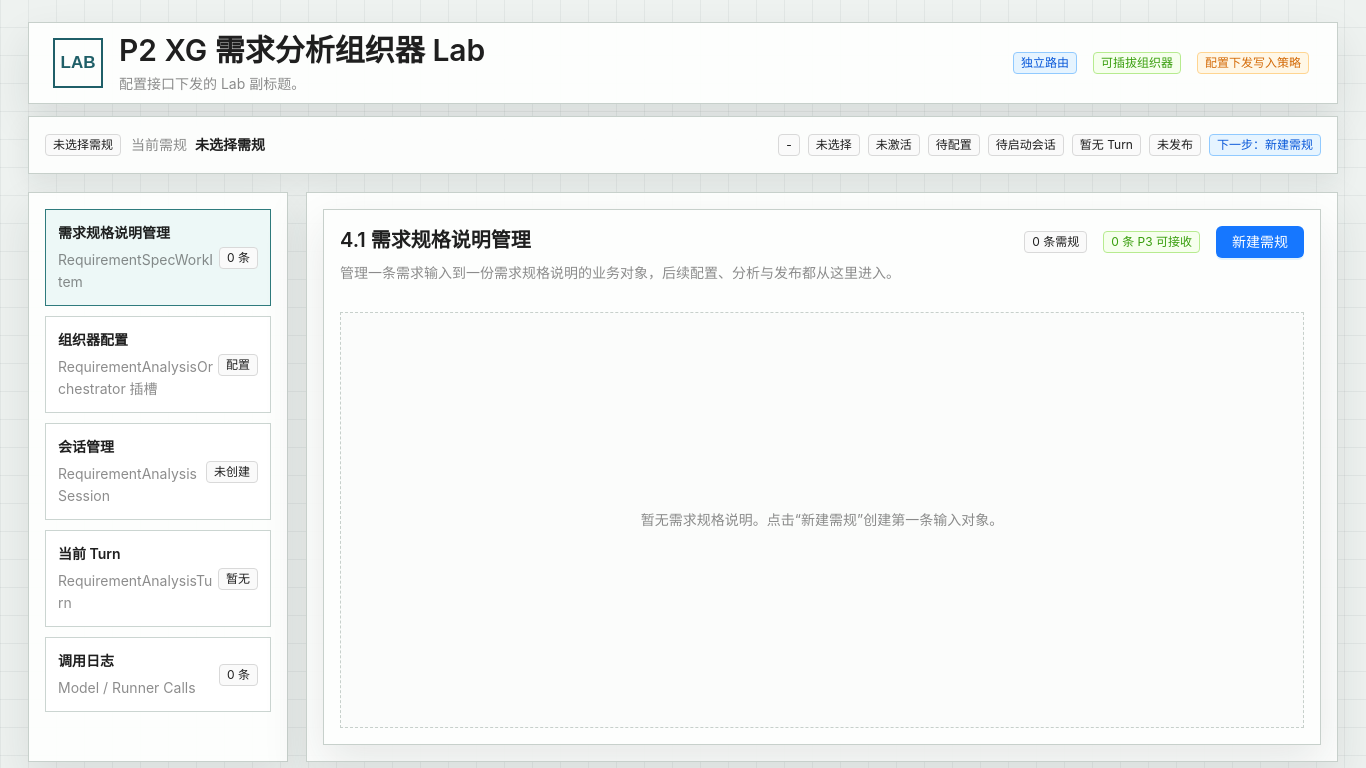
Scenario: guards Lab workflow tabs when no requirement spec is active
expect the heading "P2 XG 需求分析组织器 Lab" is shown: met, box [119, 31, 485, 69]
expect the 1st text "未选择需规" is shown: met, box [45, 134, 121, 156]
Click the tab "组织器配置 RequirementAnalysisOrchestrator 插槽 配置" at (158, 364), box [45, 316, 271, 413]
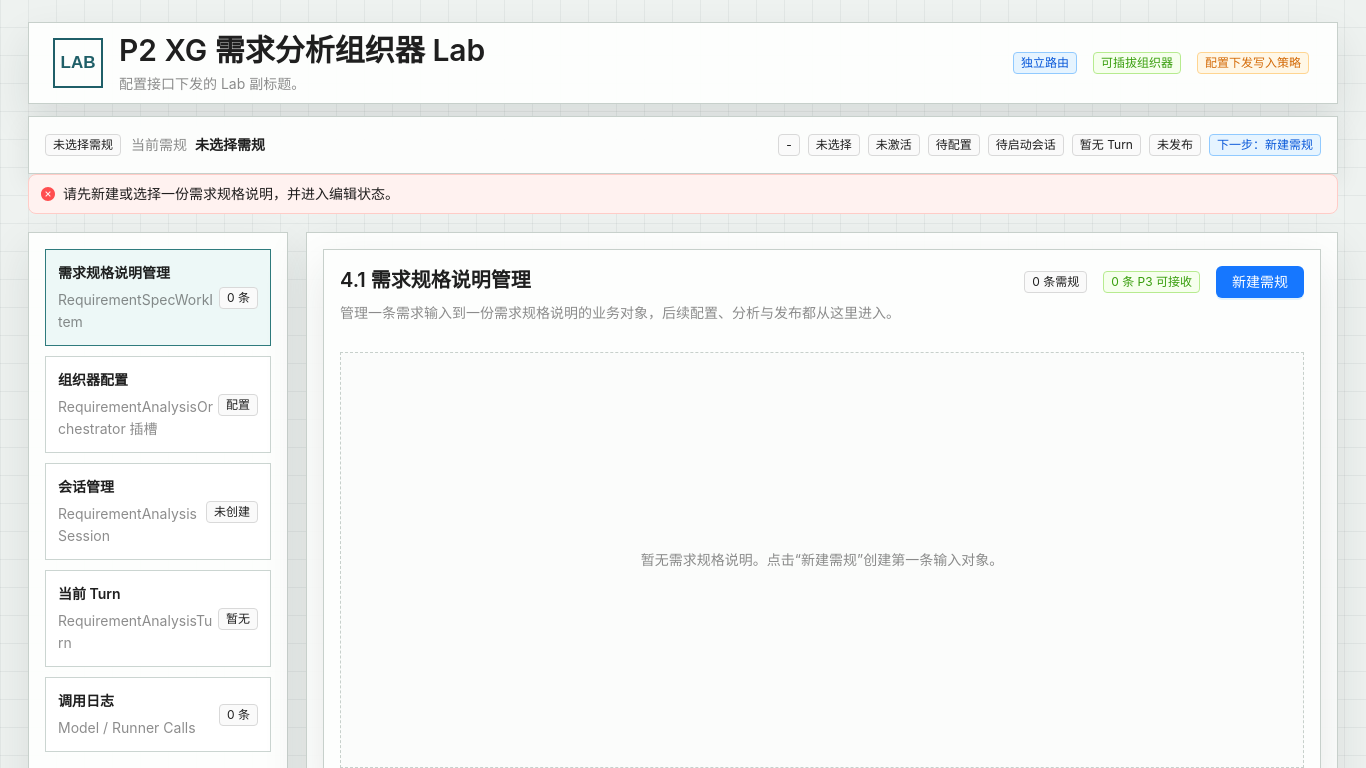
expect the text "请先新建或选择一份需求规格说明，并进入编辑状态。" is shown: met, box [63, 185, 399, 202]
Click the tab "会话管理 RequirementAnalysisSession 未创建" at (158, 512), box [45, 463, 271, 560]
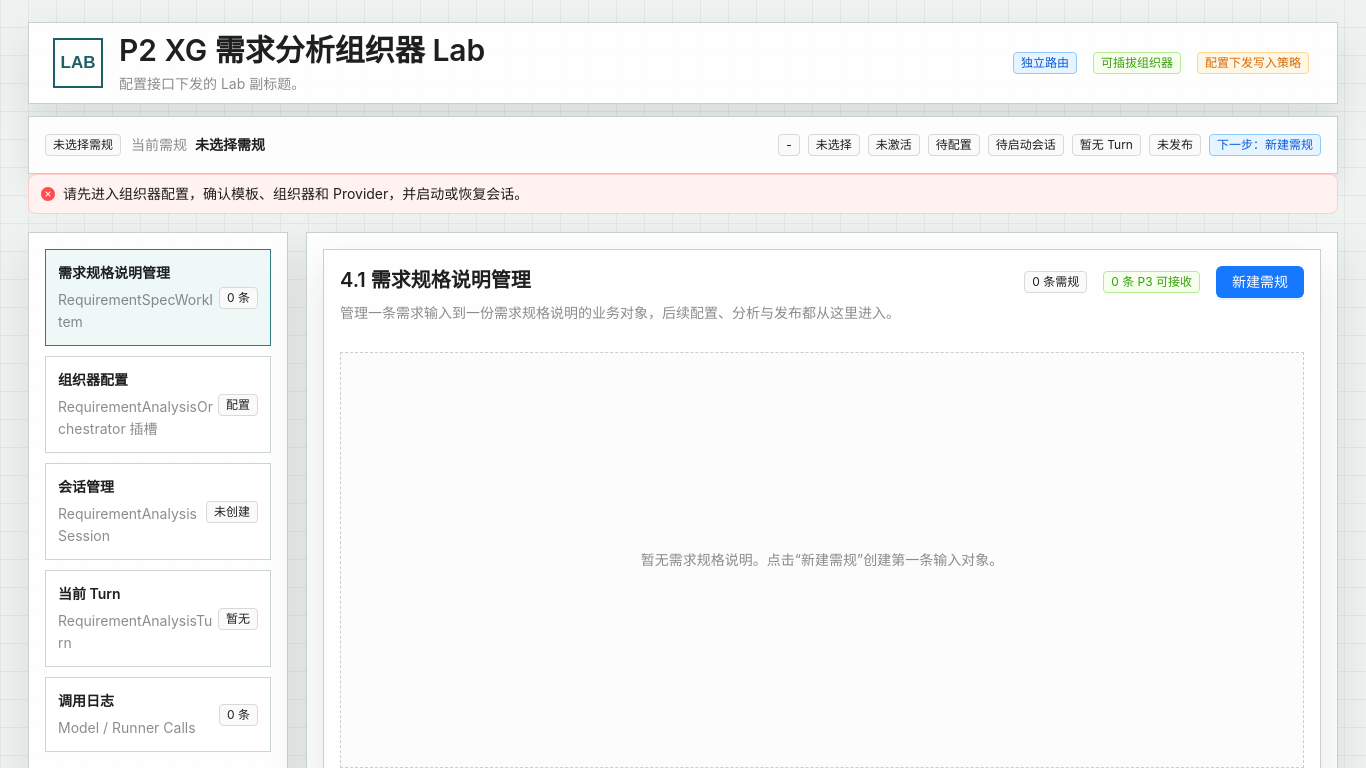
expect the text "请先进入组织器配置，确认模板、组织器和 Provider，并启动或恢复会话。" is shown: met, box [63, 185, 528, 202]
Click the tab "当前 Turn RequirementAnalysisTurn 暂无" at (158, 618), box [45, 570, 271, 667]
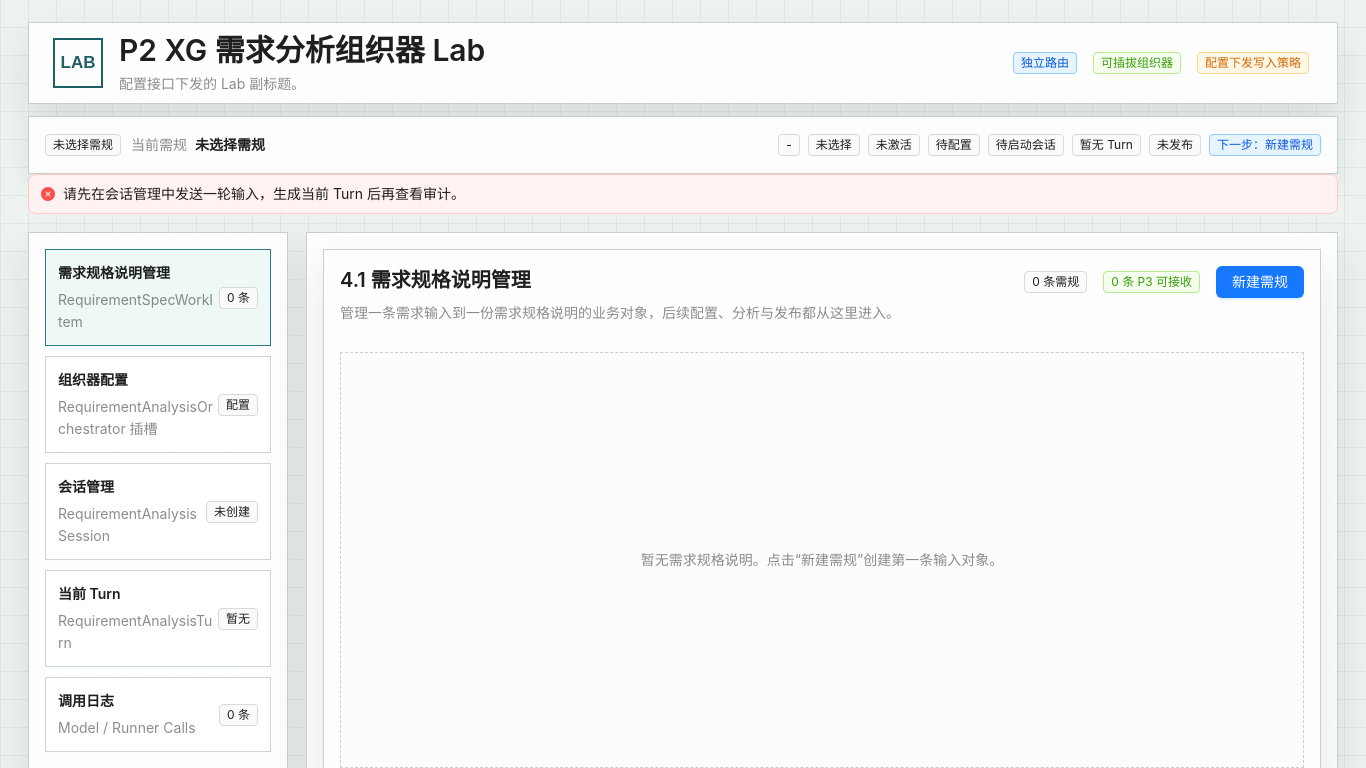
expect the text "请先在会话管理中发送一轮输入，生成当前 Turn 后再查看审计。" is shown: met, box [63, 185, 465, 202]
Click the tab "调用日志 Model / Runner Calls 0 条" at (158, 714), box [45, 677, 271, 752]
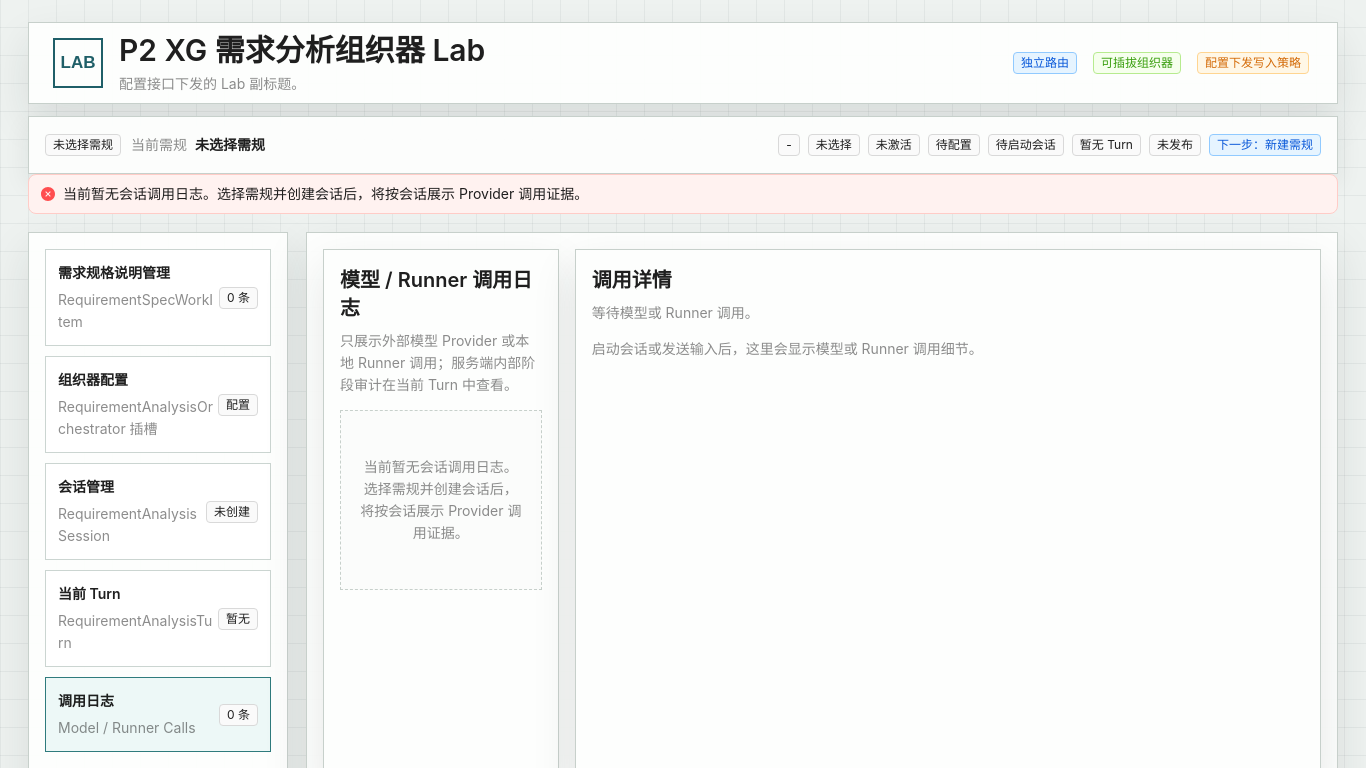
expect the 1st text "当前暂无会话调用日志。选择需规并创建会话后，将按会话展示 Provider 调用证据。" is shown: met, box [63, 185, 588, 202]
